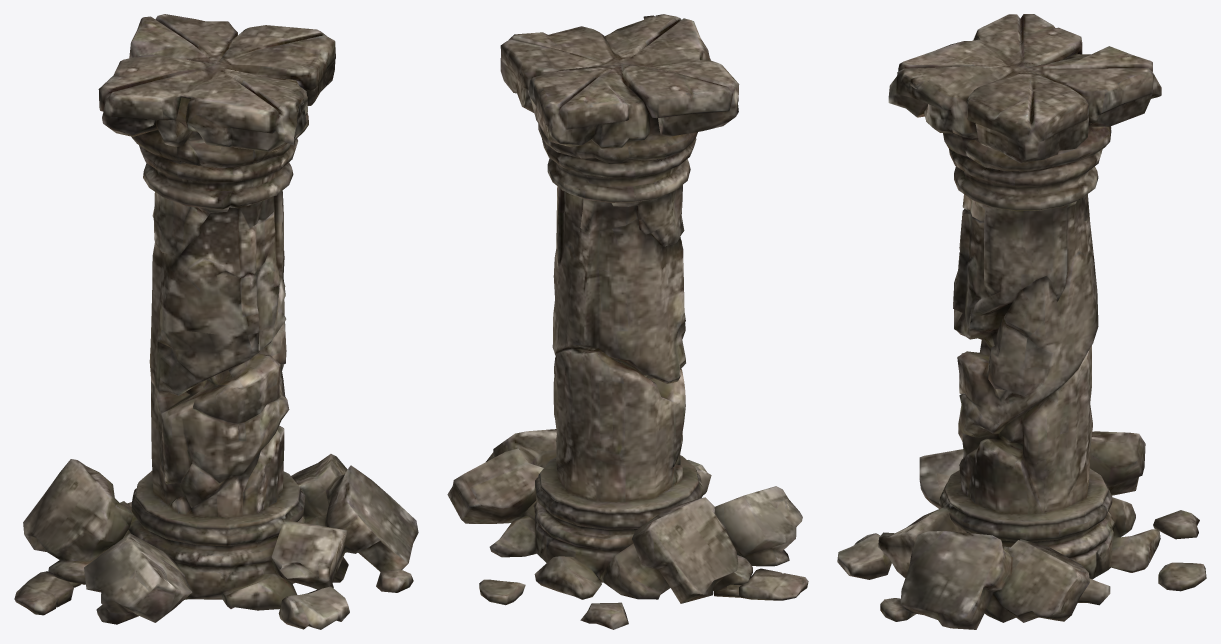
File: coluna_escombros.glb
The picture shows the model from 3 angles, left to right: view 1: azimuth 30°, elevation 25°; view 2: azimuth 150°, elevation 25°; view 3: azimuth 270°, elevation 25°; orthographic projection. The views are drawn at different scales.
Parts seen in each view (by area): view 1: tripo_node_b416f476-e9eb-4d34-9f89-09da7bcd5a49; view 2: tripo_node_b416f476-e9eb-4d34-9f89-09da7bcd5a49; view 3: tripo_node_b416f476-e9eb-4d34-9f89-09da7bcd5a49.
Boxes of the visible parts, bbox=[...] form: tripo_node_b416f476-e9eb-4d34-9f89-09da7bcd5a49: bbox=[14, 14, 418, 629]; tripo_node_b416f476-e9eb-4d34-9f89-09da7bcd5a49: bbox=[447, 14, 808, 629]; tripo_node_b416f476-e9eb-4d34-9f89-09da7bcd5a49: bbox=[837, 14, 1206, 629].
Bounding box in the file's own units: 0.7326 × 0.9775 × 0.6599.
Materials: 1 (1 with a texture image).
